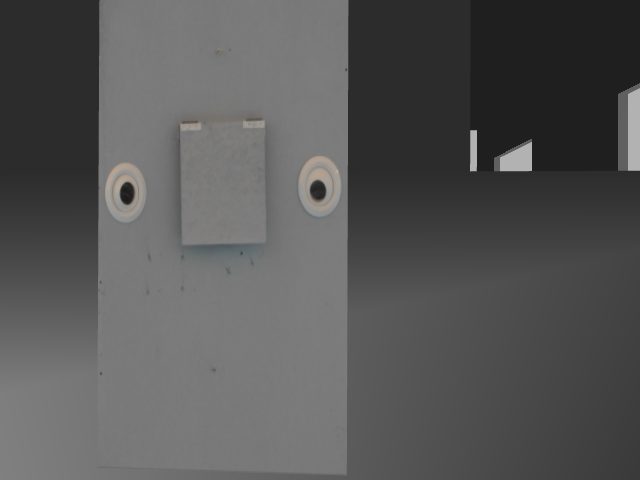facade: (101, 114, 342, 250)
